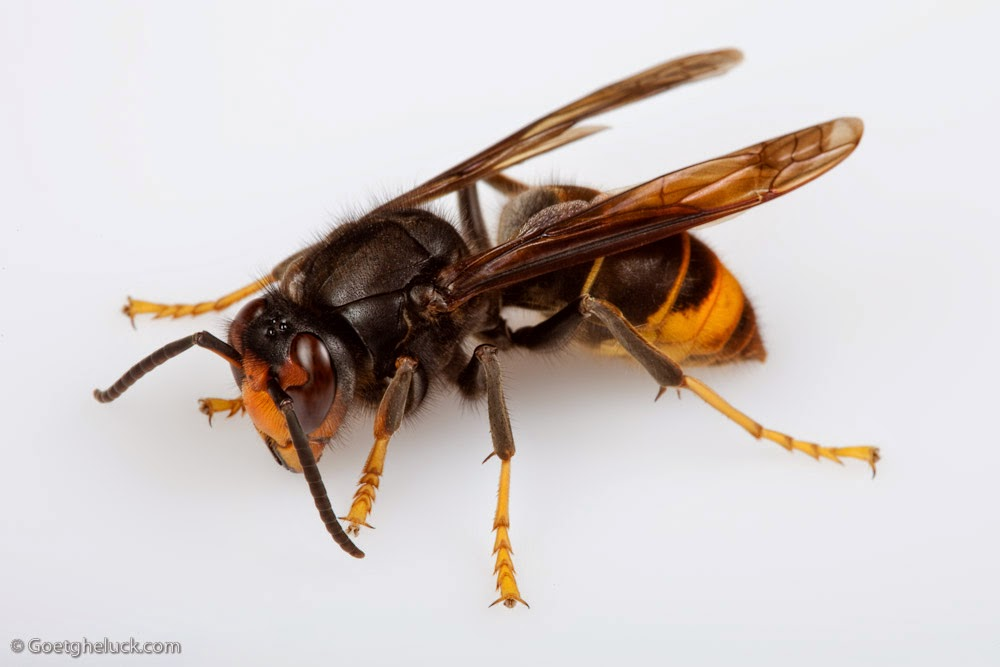hornet: (100, 44, 888, 552)
